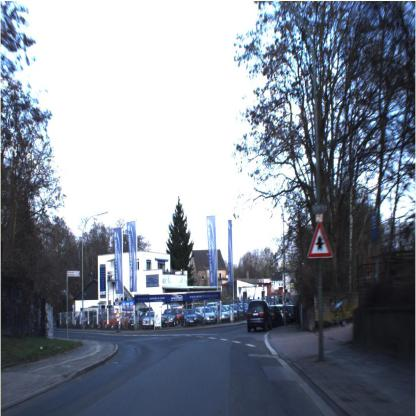danger: (305, 216, 335, 272)
